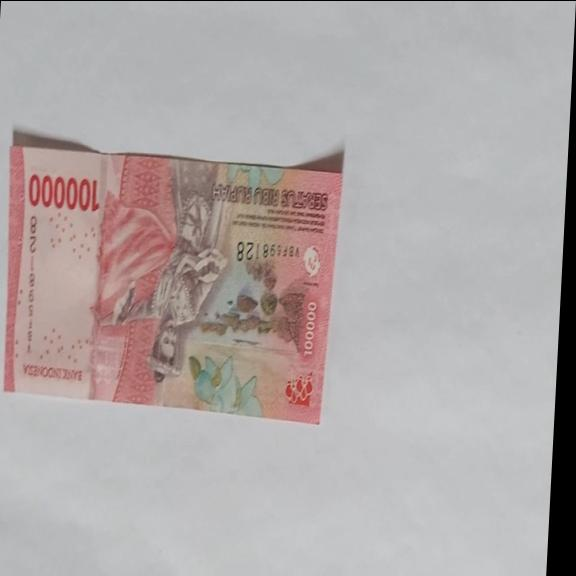Kertas: (0, 136, 344, 426), (26, 171, 102, 214)
